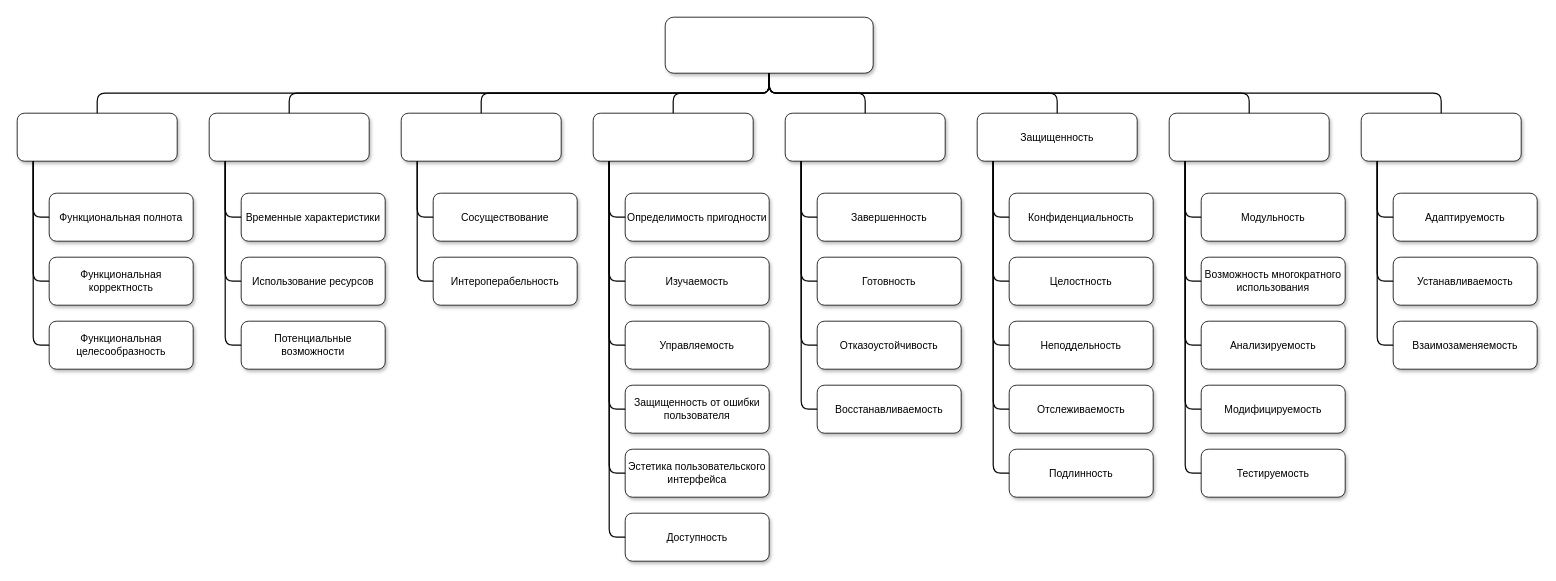
The diagram is 1556 pixels wide and 581 high, and some of its shapes have lost their labels. Here are the shapes that lost their labels. From the top down, the centre of each, then its label:
At (x=769, y=46): "Качество продукта".
At (x=97, y=138): "Функциональная пригодность".
At (x=289, y=138): "Уровень производительности".
At (x=481, y=138): "Совместимость".
At (x=673, y=138): "Удобство использования".
At (x=865, y=138): "Надежность".
At (x=1249, y=138): "Сопровождаемость".
At (x=1441, y=138): "Переносимость".
